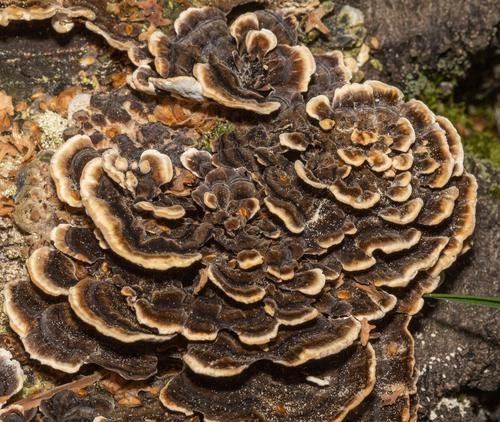Non-edible Mushroom: (0, 0, 479, 421)
